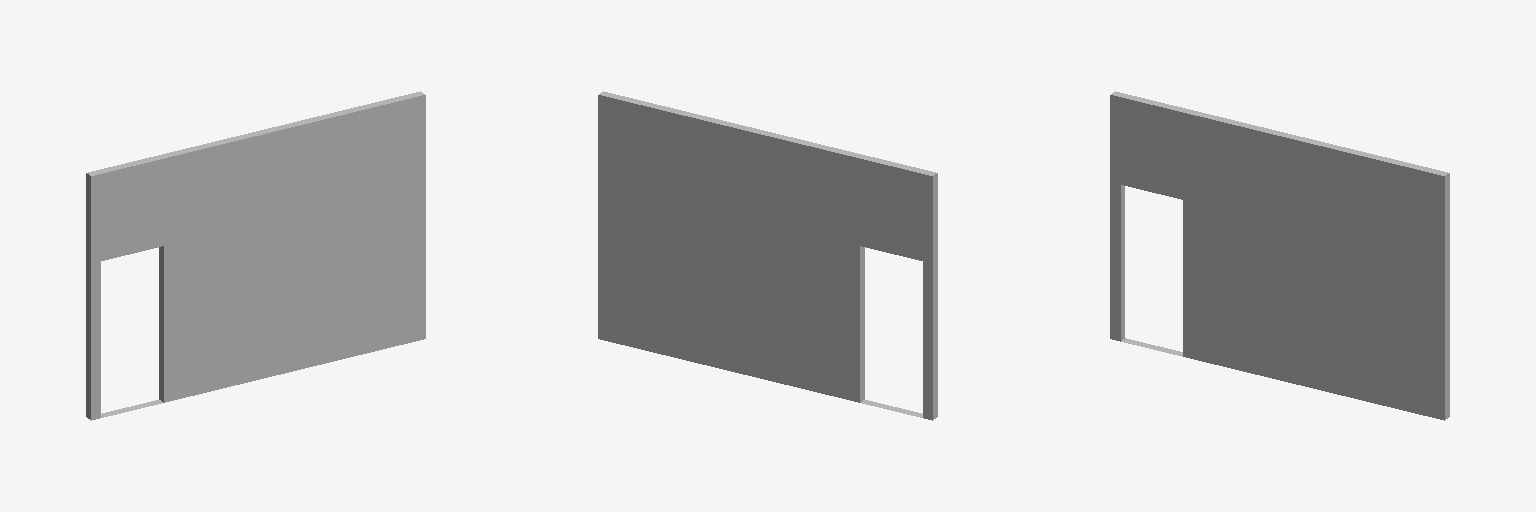
Rendered from woodenback.obj.
3 renders of one model, left to right at view 1: azimuth 30°, elevation 25°; view 2: azimuth 150°, elevation 25°; view 3: azimuth 330°, elevation 25°, orthographic.
Parts seen in each view (by area): view 1: Cube.007_Cube.011; view 2: Cube.007_Cube.011; view 3: Cube.007_Cube.011.
Part boxes in pixels (left/top/right/bottom): Cube.007_Cube.011: left=86, top=91, right=425, bottom=420; Cube.007_Cube.011: left=598, top=91, right=937, bottom=420; Cube.007_Cube.011: left=1110, top=91, right=1449, bottom=420.
Bounding box in the file's own units: 4.8 × 3.35 × 0.1175.